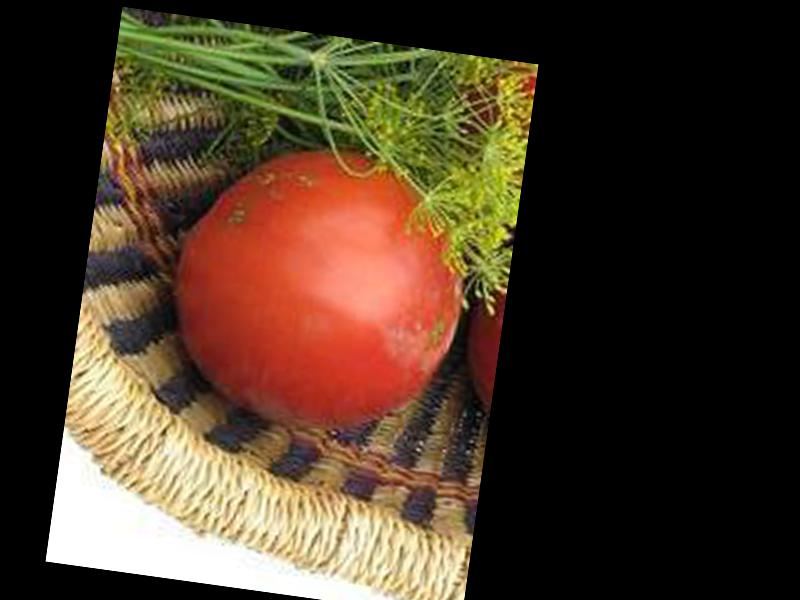Tomato: (161, 128, 481, 446)
